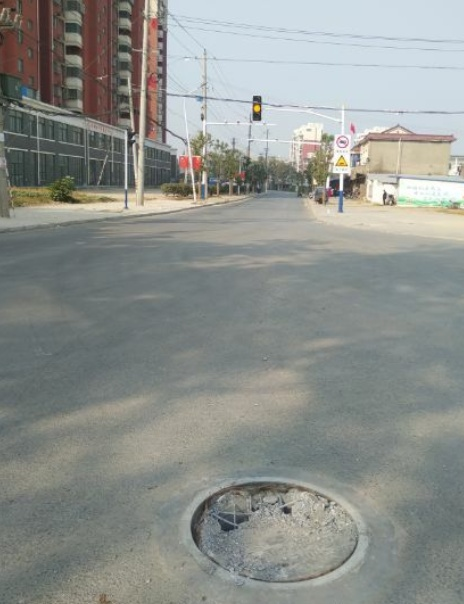broke: (181, 475, 369, 590)
